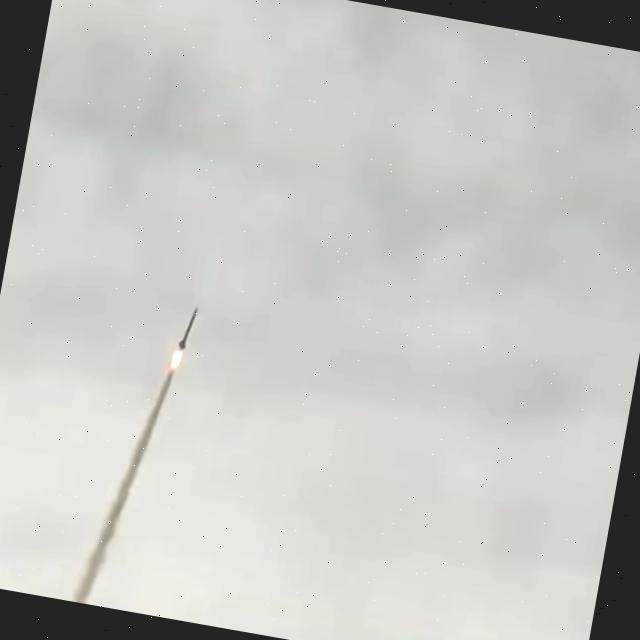smoke_trail_with_rocket: (71, 307, 197, 604)
